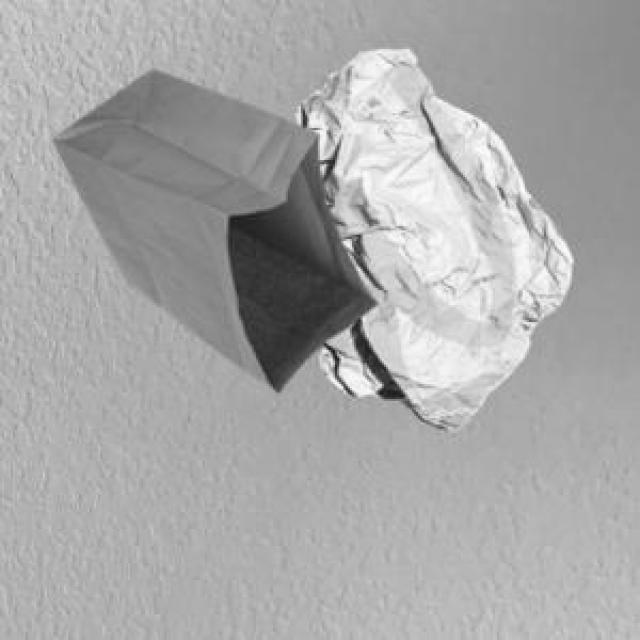paper: (292, 45, 568, 427), (49, 66, 373, 388)
